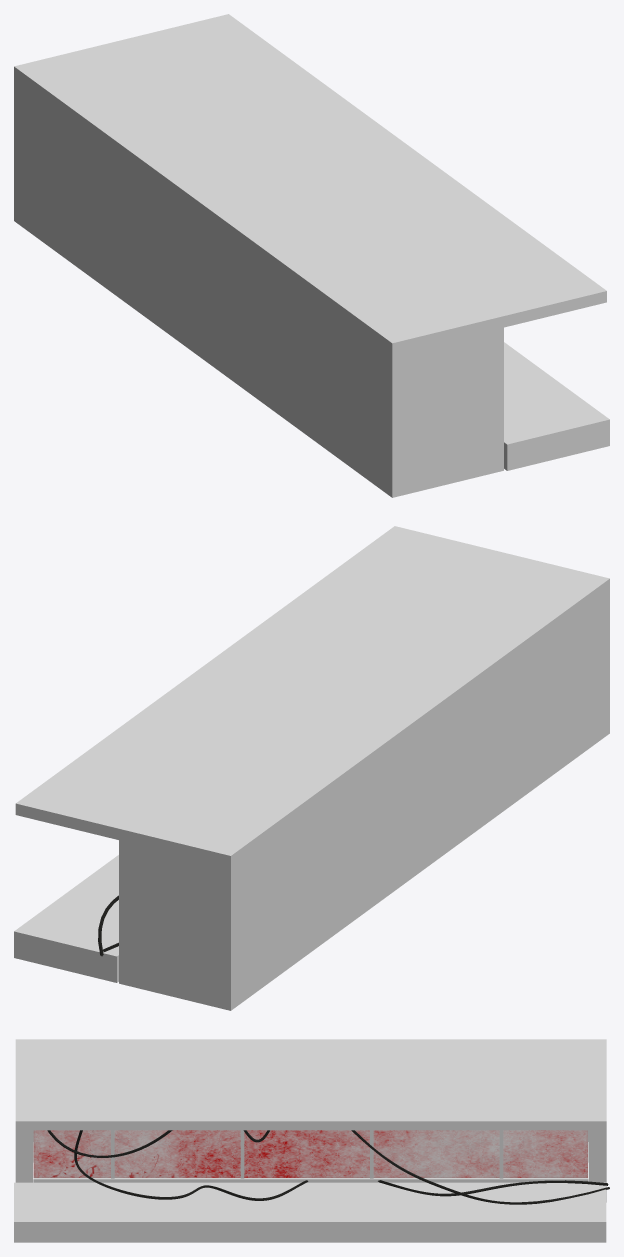
The model's file is GlassLab_new.fbx.
3 renders of one model, top to bottom at view 1: azimuth 30°, elevation 25°; view 2: azimuth 150°, elevation 25°; view 3: azimuth 270°, elevation 25°, orthographic. The views are drawn at different scales.
Parts seen in each view (by area): view 1: wall, floor; view 2: wall, floor; view 3: wall, floor, glass, Cylinder.002, Cylinder.001, poles.
Boxes of the visible parts, left/top/right/bottom form: wall: left=14, top=14, right=606, bottom=497; floor: left=504, top=342, right=609, bottom=470; wall: left=15, top=526, right=609, bottom=1010; floor: left=14, top=855, right=118, bottom=982; wall: left=15, top=1039, right=606, bottom=1202; floor: left=14, top=1142, right=606, bottom=1242; glass: left=33, top=1130, right=587, bottom=1177; Cylinder.002: left=74, top=1130, right=608, bottom=1200; Cylinder.001: left=47, top=1130, right=609, bottom=1204; poles: left=111, top=1130, right=503, bottom=1178.
Bounding box in the file's own units: 317 × 216 × 967.
Materials: 5 (1 with a texture image).
